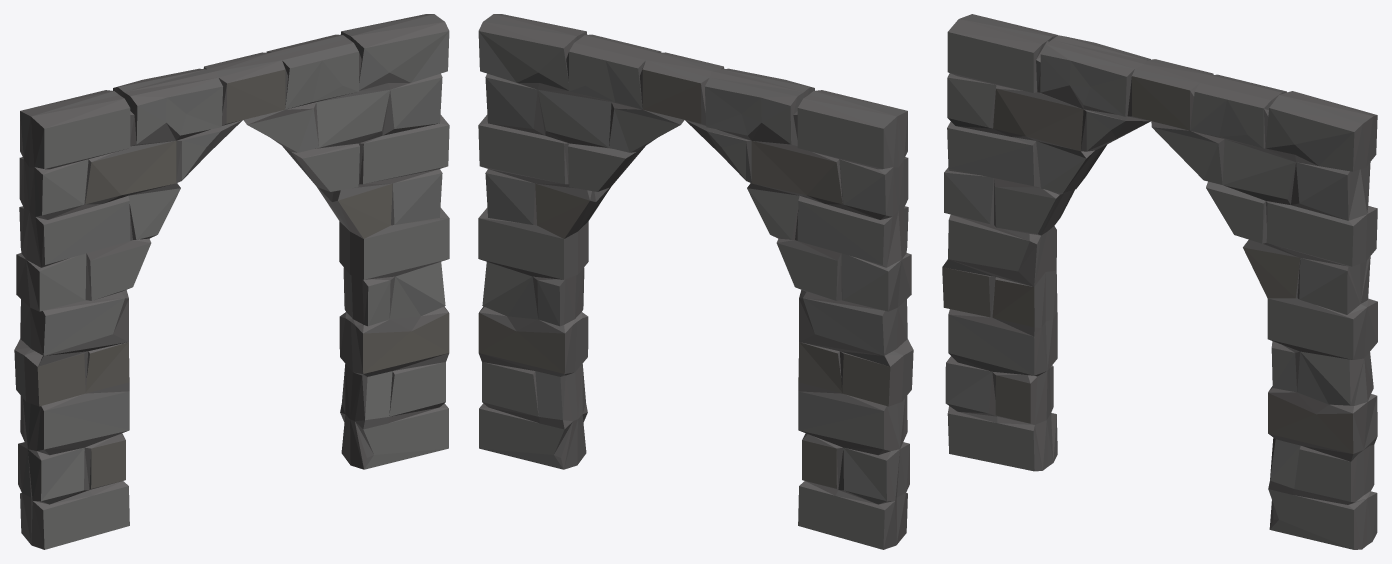
Rendered from SM_Env_Wall_07.FBX.
3 renders of one model, left to right at view 1: azimuth 30°, elevation 25°; view 2: azimuth 150°, elevation 25°; view 3: azimuth 330°, elevation 25°, orthographic.
Parts seen in each view (by area): view 1: SM_Env_Wall_07; view 2: SM_Env_Wall_07; view 3: SM_Env_Wall_07.
Part boxes in pixels (bbox=[...]): SM_Env_Wall_07: bbox=[14, 14, 449, 549]; SM_Env_Wall_07: bbox=[478, 14, 913, 549]; SM_Env_Wall_07: bbox=[942, 14, 1377, 549].
Size of what is drawn, in the model's own units: 518 by 53.18 by 513.
